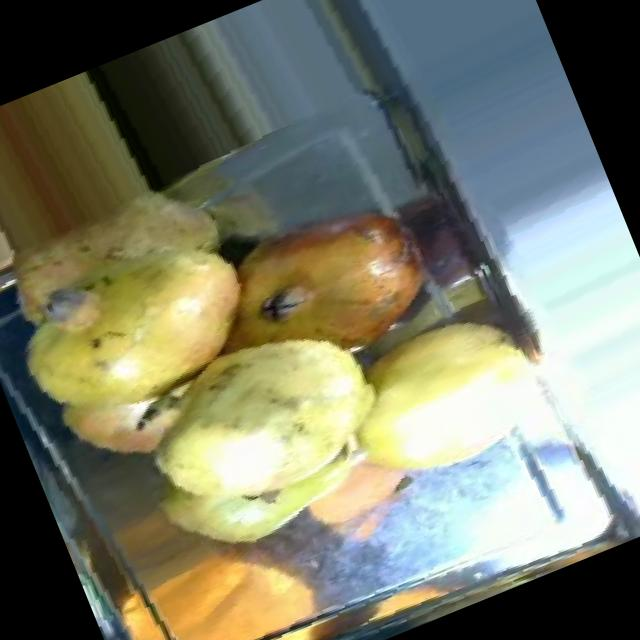fruit: (88, 274, 440, 593), (0, 214, 281, 500), (214, 158, 471, 395)
